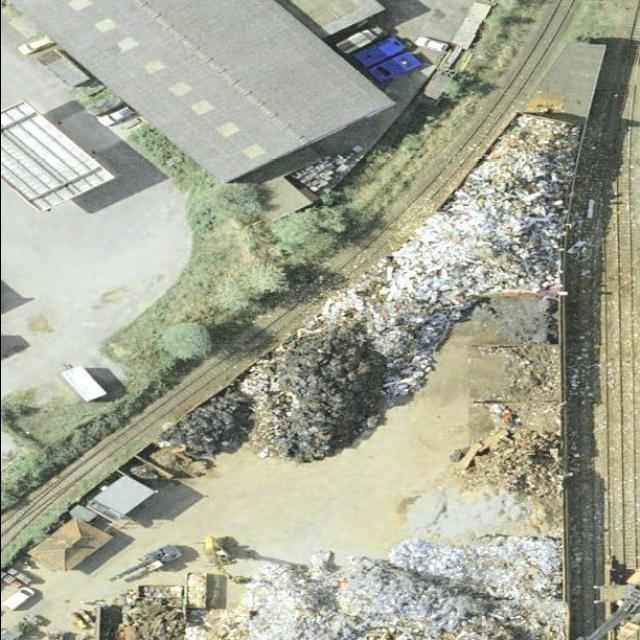dump_site: (155, 150, 569, 475), (243, 540, 564, 640), (448, 113, 582, 292), (468, 403, 563, 536), (500, 346, 557, 402), (183, 609, 249, 640), (183, 573, 206, 608), (135, 586, 183, 598)
